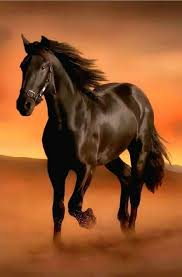horse: (15, 34, 174, 243)
